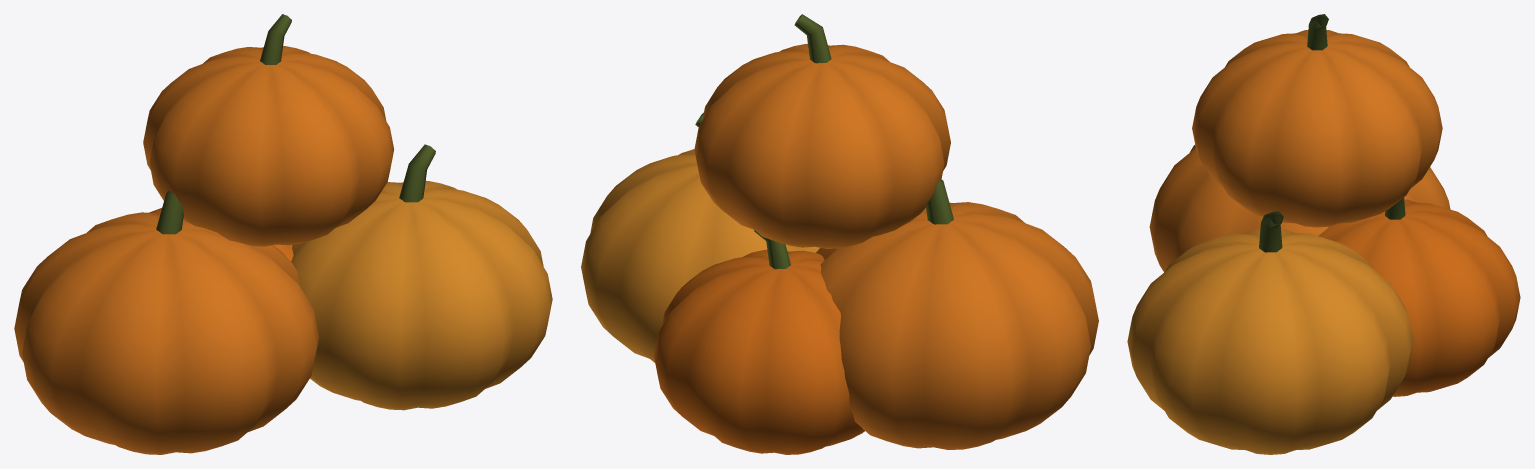
The model's file is furn_pumpkin_pile.glb.
3 renders of one model, left to right at view 1: azimuth 30°, elevation 25°; view 2: azimuth 150°, elevation 25°; view 3: azimuth 270°, elevation 25°, orthographic. The views are drawn at different scales.
Visible parts, largest first — view 1: furn_pumpkin_pile_main; view 2: furn_pumpkin_pile_main; view 3: furn_pumpkin_pile_main.
Boxes of the visible parts, x1,y1,x2,y2 form: furn_pumpkin_pile_main: (14, 14, 552, 454); furn_pumpkin_pile_main: (581, 14, 1098, 454); furn_pumpkin_pile_main: (1127, 14, 1520, 454).
Size of the model in its own units: 0.7095 by 0.533 by 0.505.
